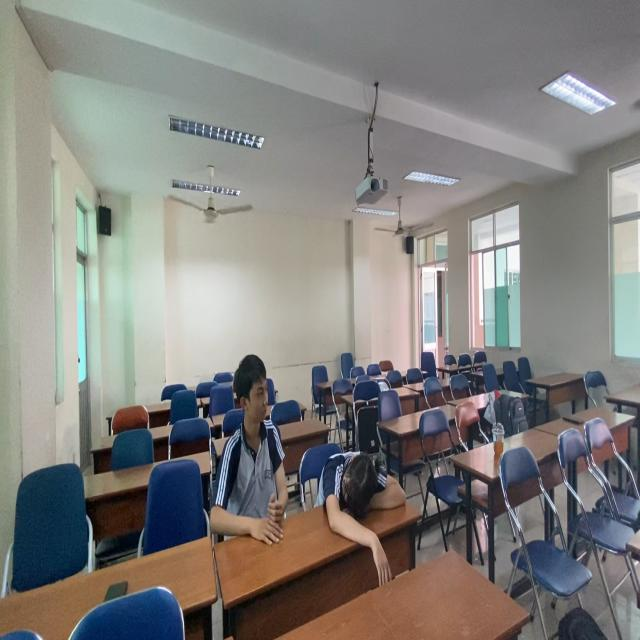sleep: (313, 438, 414, 534)
